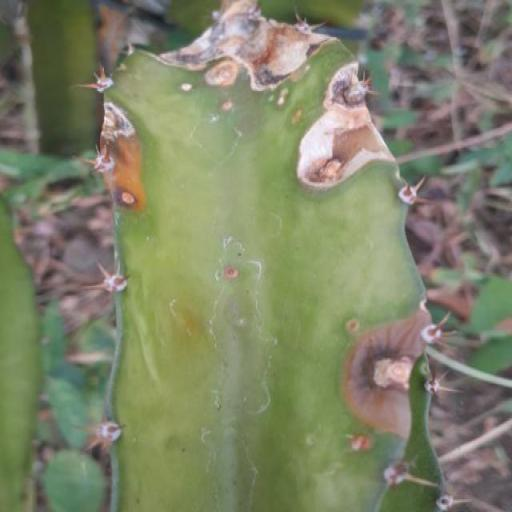stemcanker: (148, 46, 165, 94), (228, 298, 248, 336), (322, 320, 338, 360), (215, 81, 232, 109), (324, 206, 342, 230), (335, 228, 348, 260), (332, 398, 342, 433)
